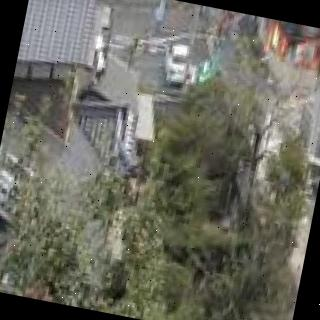fire: (250, 16, 320, 78)
